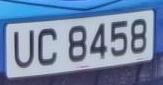4: (87, 20, 109, 60)
5: (108, 19, 129, 58)
8: (65, 22, 91, 63), (128, 15, 150, 55)
C: (35, 24, 62, 71)
U: (11, 26, 38, 73)
